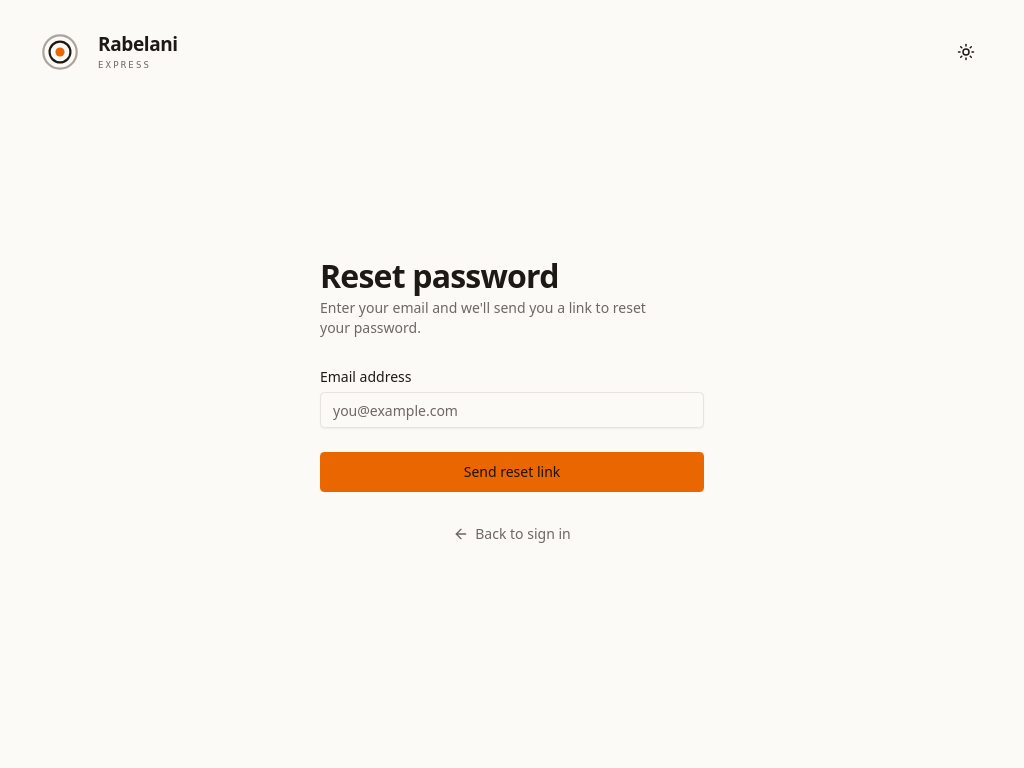
Scenario: ResetPassword — request mode (integration) › surfaces a send failure
This screenshot has width=1024, height=768.
In the field labelled "Email address": (512, 410) [320,392,704,428], type "buyer@acme.co.za"
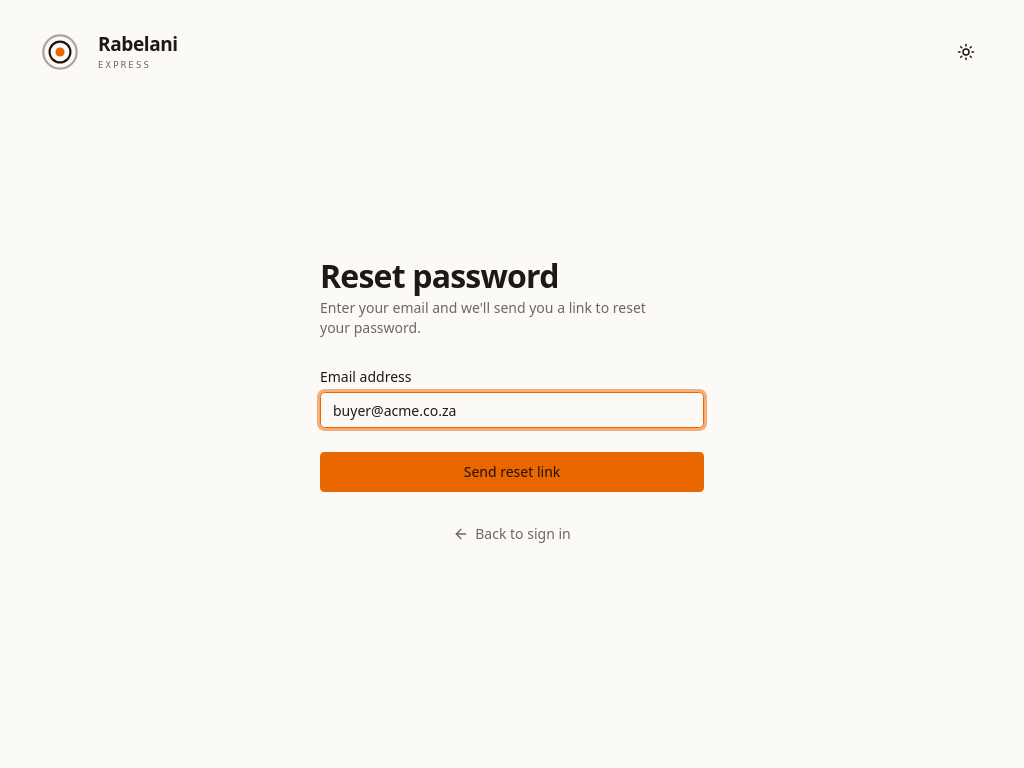
Click the button "Send reset link": click(512, 472) [320,452,704,492]
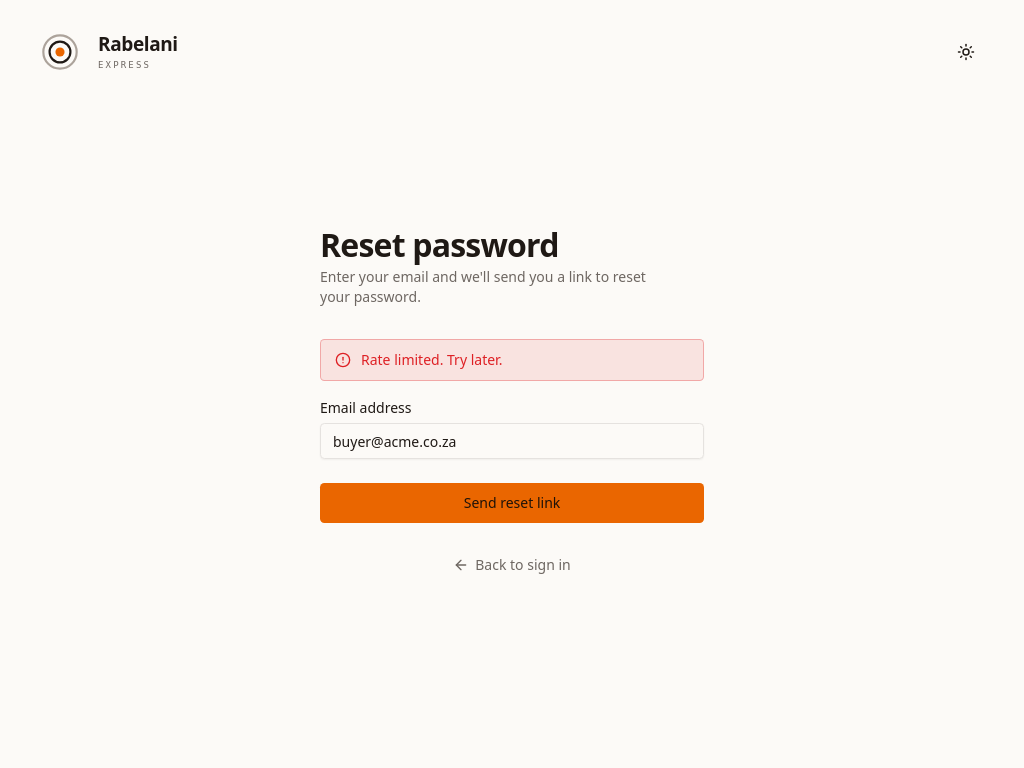
Result: the text "Rate limited. Try later." is shown at [361,350,502,370]
